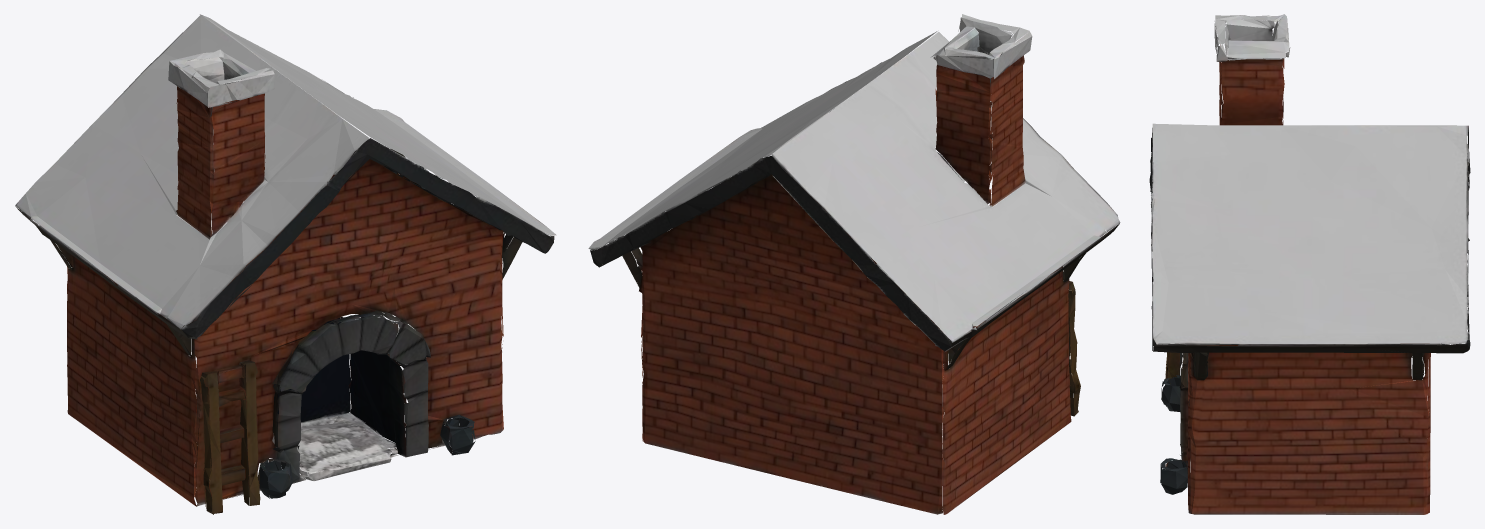
The model's file is building_brick.glb.
The picture shows the model from 3 angles, left to right: view 1: azimuth 30°, elevation 25°; view 2: azimuth 150°, elevation 25°; view 3: azimuth 270°, elevation 25°; orthographic projection. The views are drawn at different scales.
Visible parts, largest first — view 1: textured_mesh.obj; view 2: textured_mesh.obj; view 3: textured_mesh.obj.
Boxes of the visible parts, x1,y1,x2,y2 form: textured_mesh.obj: [15, 14, 556, 514]; textured_mesh.obj: [588, 14, 1120, 514]; textured_mesh.obj: [1149, 14, 1470, 514].
Size of the model in its own units: 1.96 by 1.99 by 1.54.
Materials: 1 (1 with a texture image).
